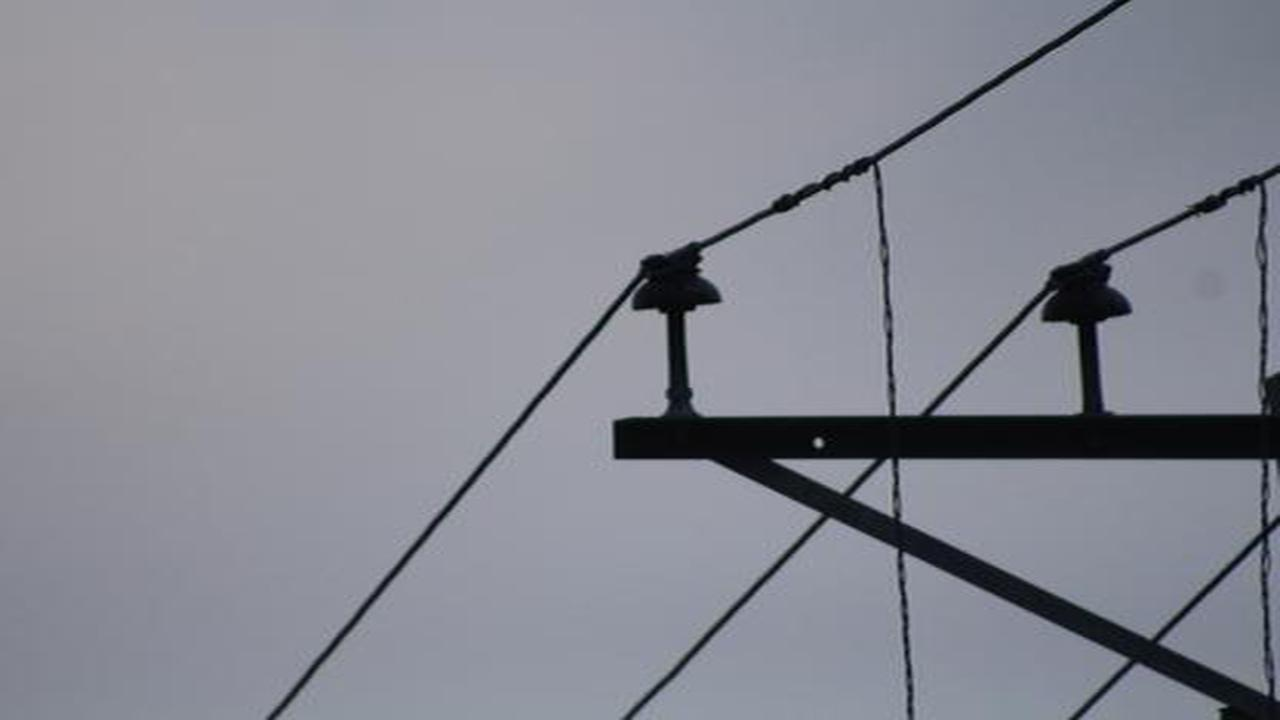insulator_pin: (629, 235, 729, 325), (1041, 250, 1141, 331)
